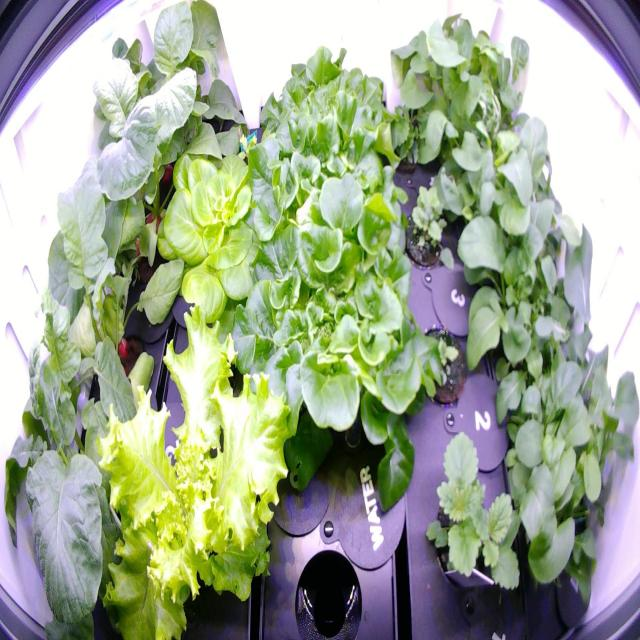young: (147, 135, 296, 338)
